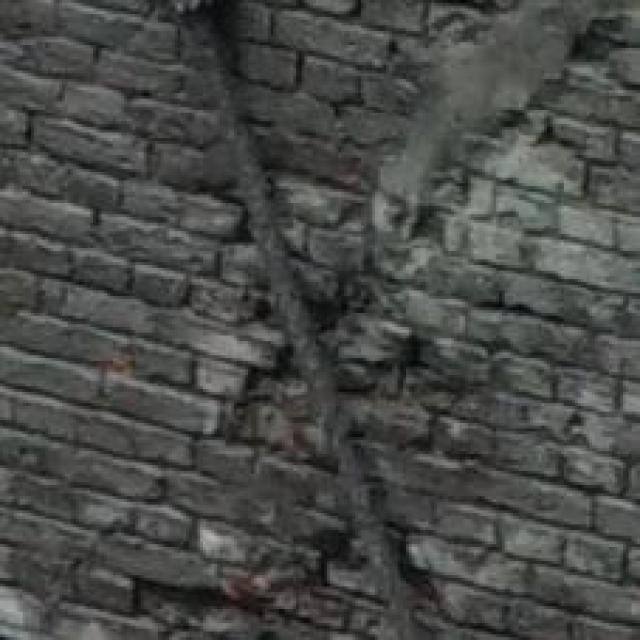Crack: (204, 149, 497, 640)
